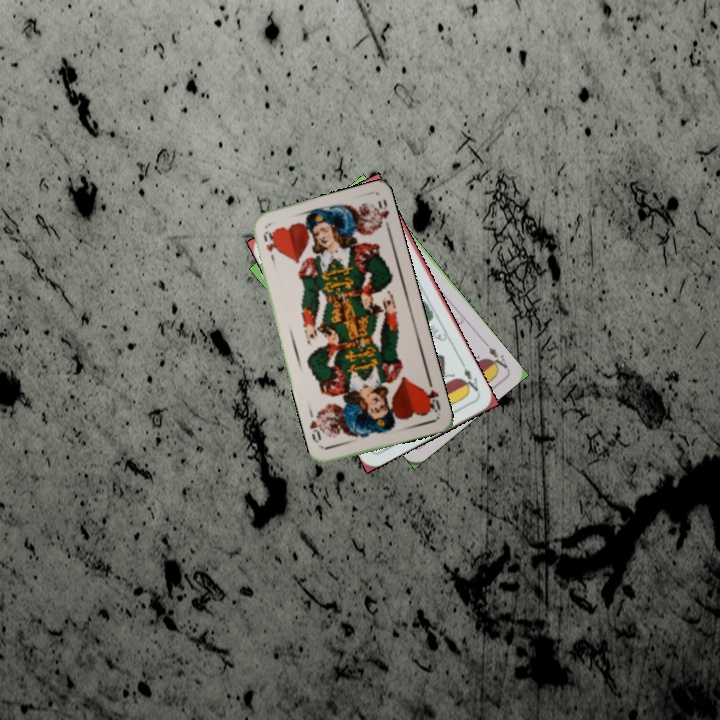EA: (480, 338, 510, 373), (458, 359, 483, 396)
HO: (421, 377, 443, 415), (259, 227, 278, 266)
